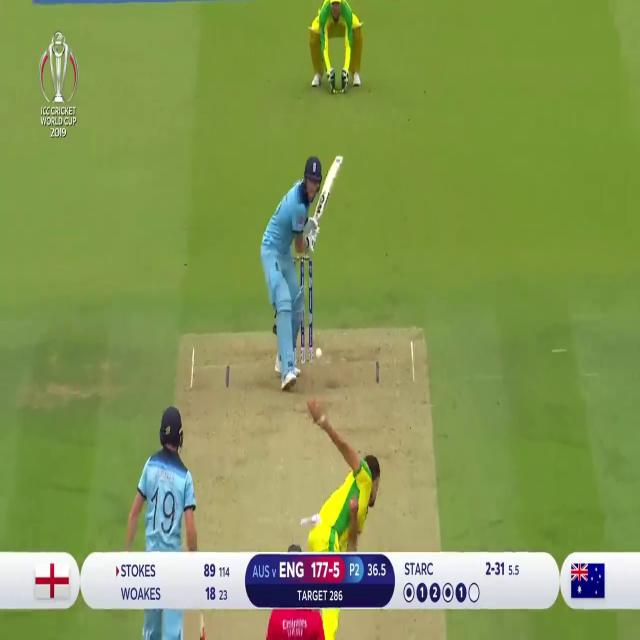ball: (314, 347, 322, 357)
